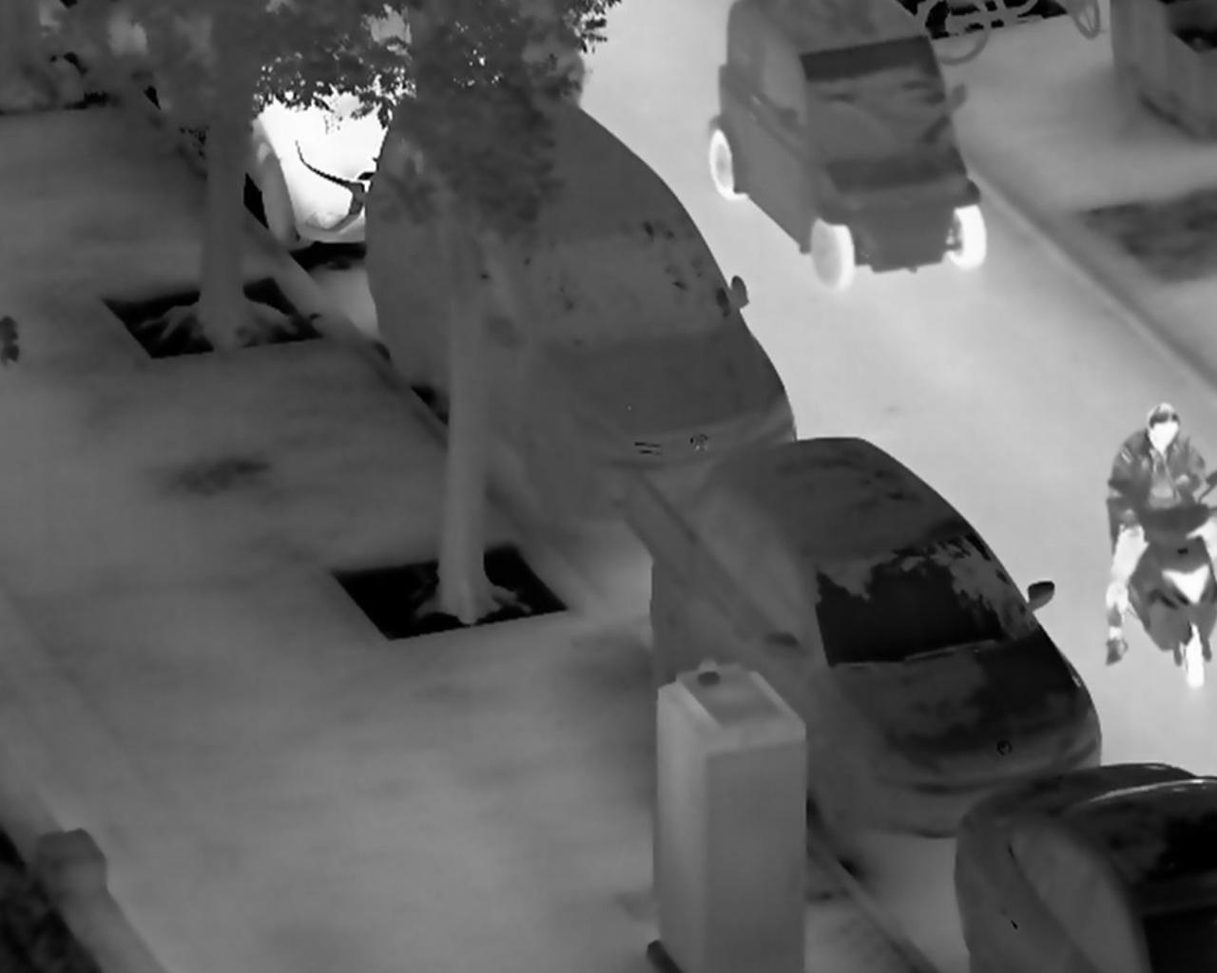person: (1098, 398, 1217, 669)
